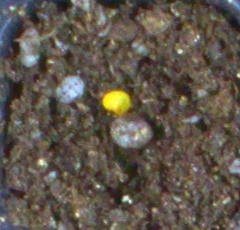chilli seed: (102, 91, 130, 113)
